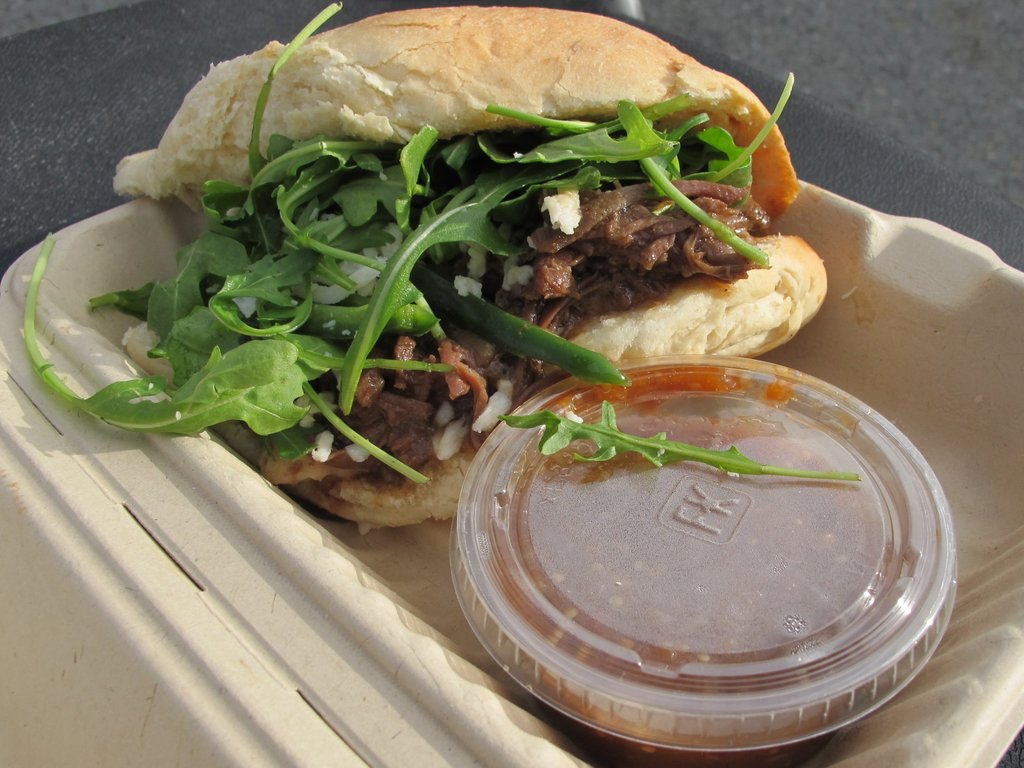Hamburger: (24, 2, 824, 535)
